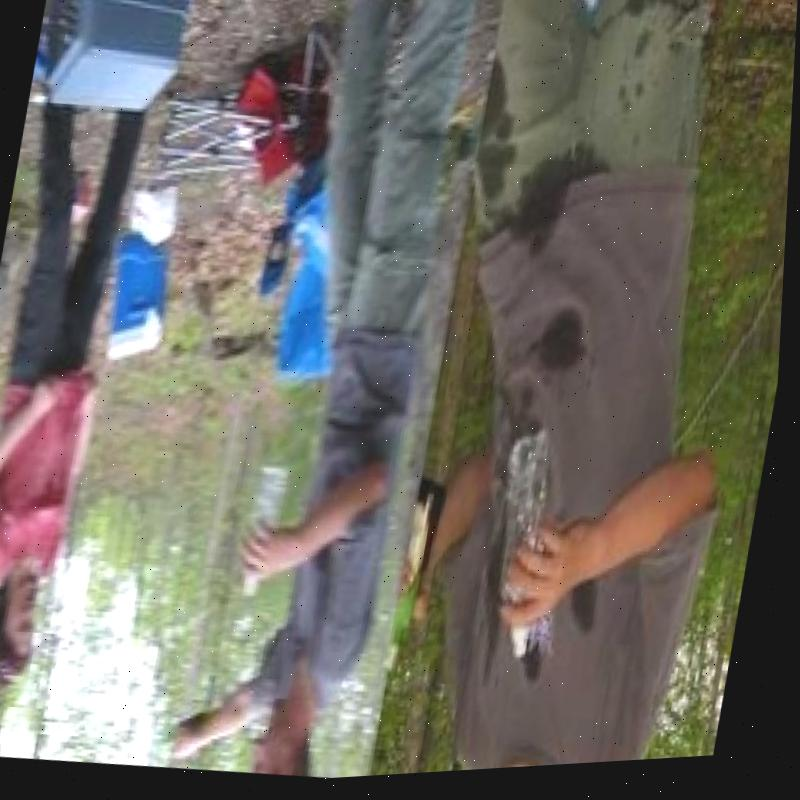botella: (481, 432, 584, 667), (241, 464, 298, 604)
